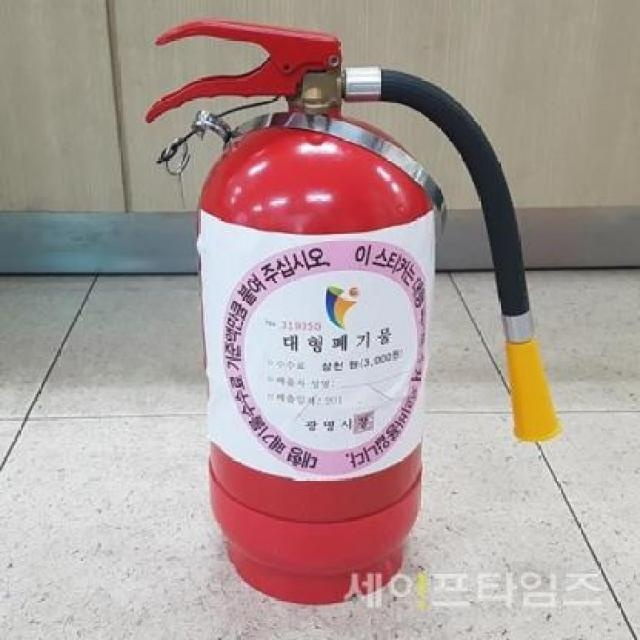fire extinguisher: (146, 19, 562, 605)
